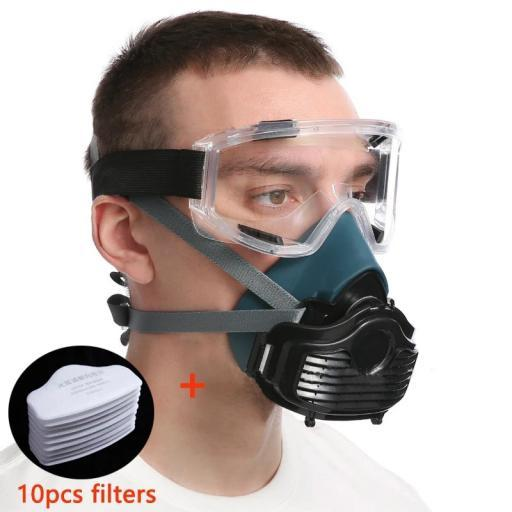mask: (184, 204, 427, 434)
